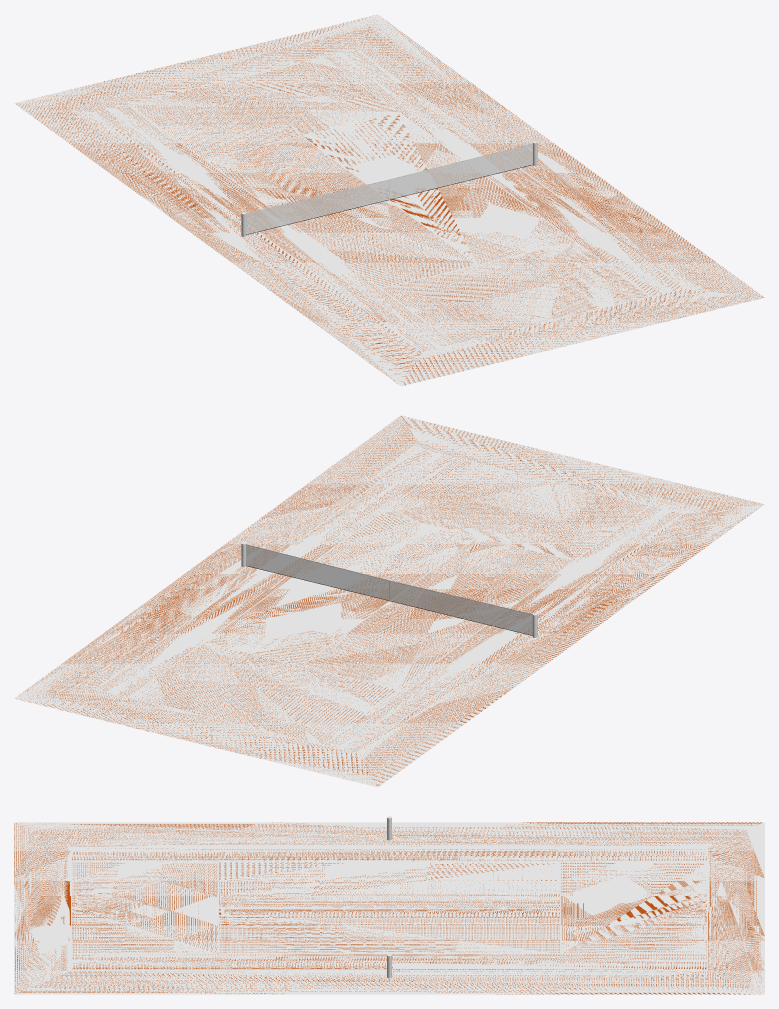
3 renders of one model, top to bottom at view 1: azimuth 30°, elevation 25°; view 2: azimuth 150°, elevation 25°; view 3: azimuth 270°, elevation 25°, orthographic. The views are drawn at different scales.
Visible parts, largest first — view 1: SketchUp (×10); view 2: SketchUp (×10); view 3: SketchUp (×8).
Part boxes in pixels (x1,y1,x2,y2): SketchUp (×10): (14, 14, 764, 386); SketchUp (×10): (14, 415, 764, 787); SketchUp (×8): (14, 822, 764, 994).
Size of the model in its own units: 599 by 1103 by 35.83.
7 materials, 5 textured.
